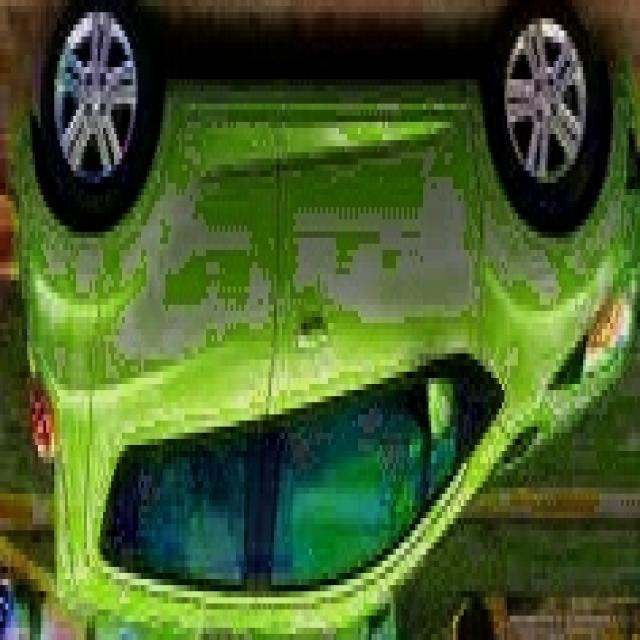green: (0, 0, 638, 628)
